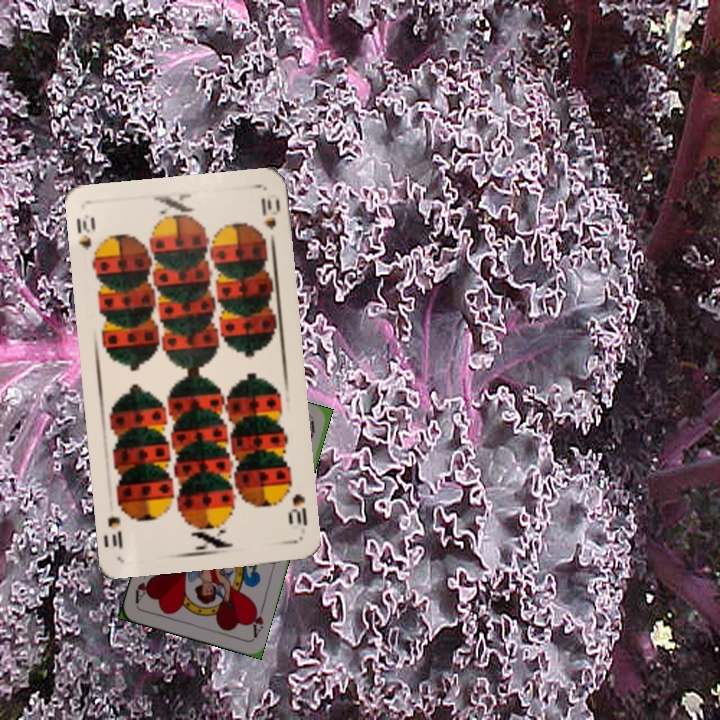HA: (246, 601, 267, 640)
S10: (72, 211, 101, 266), (285, 490, 310, 529)
